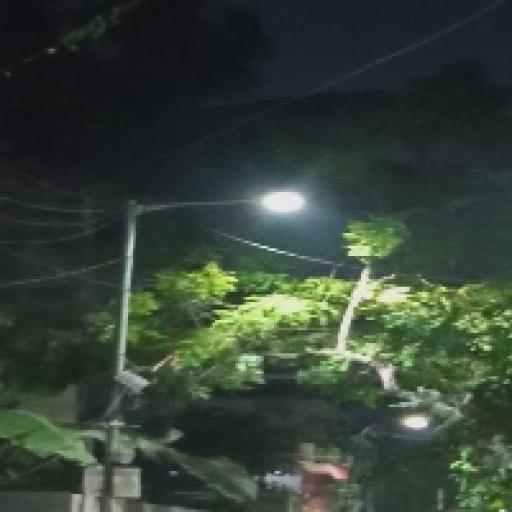Working: (250, 186, 316, 224), (386, 402, 440, 437)
